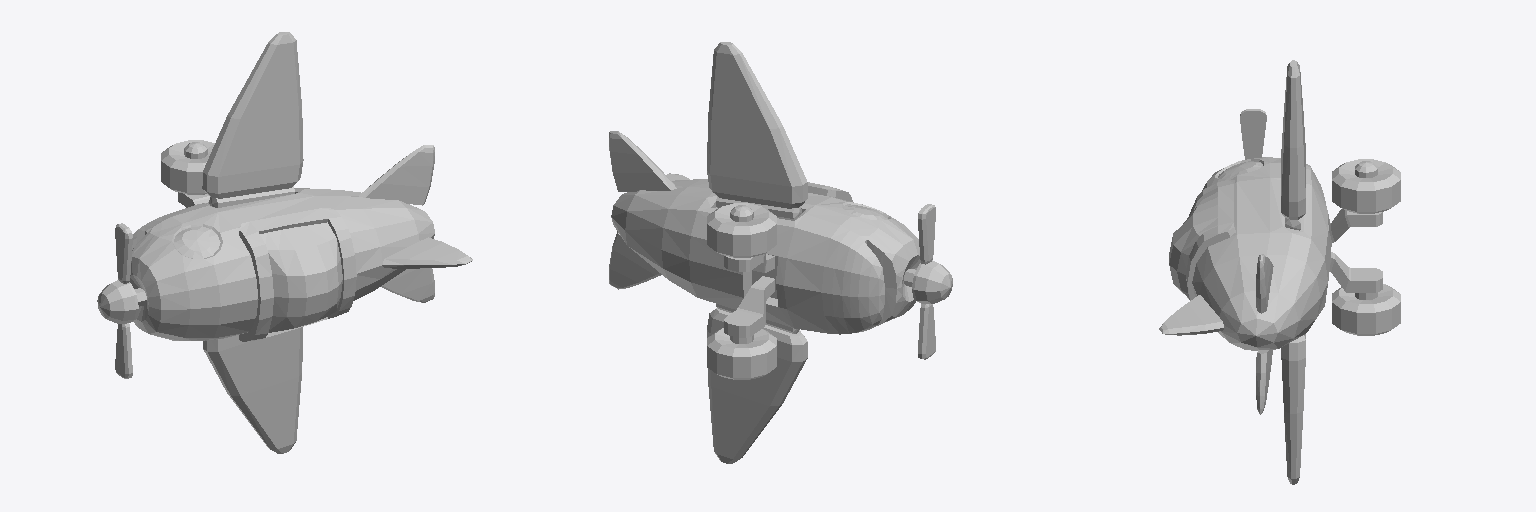
3 views of the same model, side by side, from view 1: azimuth 30°, elevation 25°; view 2: azimuth 150°, elevation 25°; view 3: azimuth 270°, elevation 25° (orthographic).
Parts seen in each view (by area): view 1: Object_planes.jpg; view 2: Object_planes.jpg; view 3: Object_planes.jpg.
Boxes of the visible parts, box(x1,y1,x2,y2) form: Object_planes.jpg: box(97, 32, 472, 453); Object_planes.jpg: box(609, 42, 952, 463); Object_planes.jpg: box(1159, 60, 1400, 484).
Bounding box in the file's own units: 2.11 × 2.5 × 1.31.